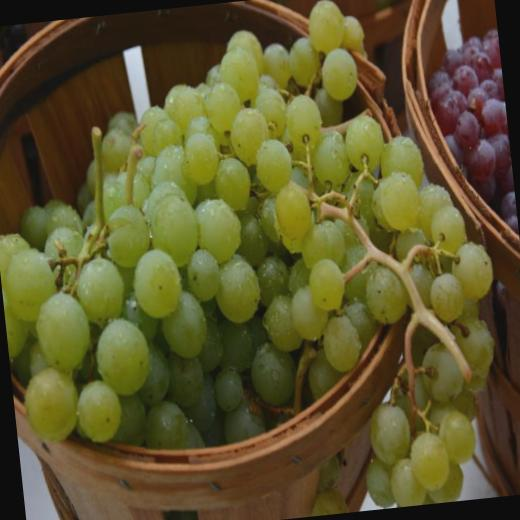Orange: (0, 0, 516, 520), (422, 27, 518, 240)
